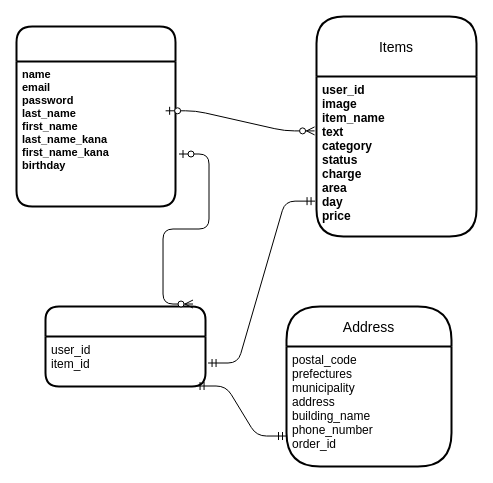
The diagram is 493 pixels wide and 483 high, and some of its shapes have lost their labels. Each missing label, with the box of its shape:
Order: (44, 305, 206, 387)
Users: (15, 25, 176, 207)
